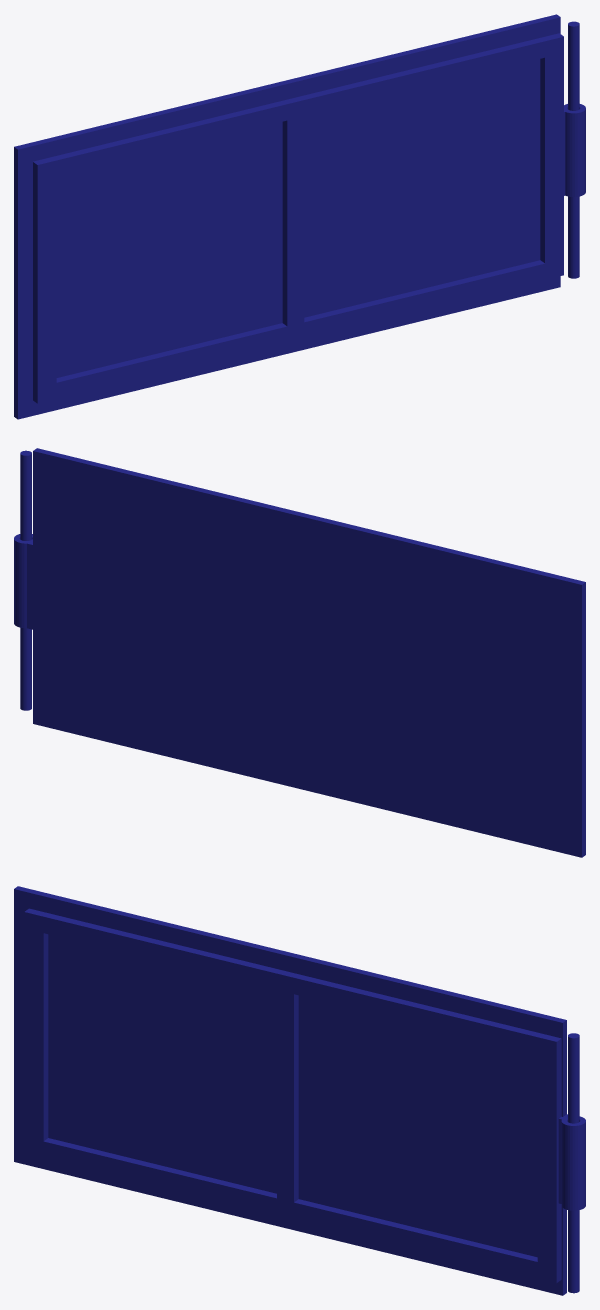
The model's file is door_upper_left.dae.
3 renders of one model, top to bottom at view 1: azimuth 30°, elevation 25°; view 2: azimuth 150°, elevation 25°; view 3: azimuth 330°, elevation 25°, orthographic.
Parts seen in each view (by area): view 1: door_upper_left; view 2: door_upper_left; view 3: door_upper_left.
Boxes of the visible parts, x1,y1,x2,y2 form: door_upper_left: [14, 14, 585, 419]; door_upper_left: [14, 448, 585, 857]; door_upper_left: [14, 886, 585, 1295].
Size of the model in its own units: 0.1666 by 0.00619 by 0.076.
